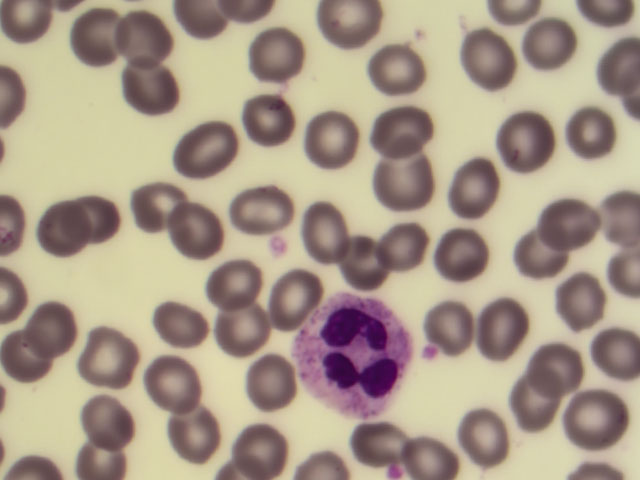Platelets: (267, 230, 296, 257), (422, 345, 443, 366), (389, 462, 408, 480)
RBC: (69, 9, 127, 61), (111, 11, 169, 63), (120, 60, 178, 112), (182, 120, 240, 172), (165, 203, 223, 255), (131, 179, 189, 231), (69, 192, 127, 244), (36, 205, 94, 257), (27, 292, 85, 344), (7, 332, 65, 384), (84, 337, 142, 389), (81, 382, 139, 434), (79, 428, 137, 480), (150, 356, 208, 408), (166, 408, 224, 460), (152, 296, 210, 348), (213, 300, 271, 352), (201, 260, 259, 312), (254, 269, 312, 321), (235, 184, 293, 236), (301, 194, 359, 246), (304, 114, 362, 166), (242, 96, 300, 148), (249, 27, 307, 79), (366, 46, 424, 98), (376, 103, 434, 155), (371, 149, 429, 201), (327, 238, 385, 290), (372, 220, 430, 272), (439, 229, 497, 281), (443, 163, 501, 215), (487, 118, 545, 170), (462, 31, 520, 83), (522, 16, 580, 68), (561, 106, 619, 158), (536, 195, 594, 247), (512, 237, 570, 289), (476, 301, 534, 353), (425, 290, 483, 342), (545, 276, 603, 328), (577, 322, 635, 374), (532, 340, 590, 392), (502, 386, 560, 438), (582, 385, 640, 437), (464, 410, 522, 462), (345, 415, 403, 467), (242, 427, 300, 479), (246, 361, 304, 413), (315, 1, 373, 52)
WBC: (300, 292, 413, 418)
